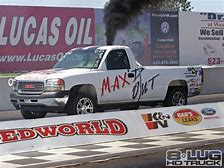smoke: (102, 1, 159, 45)
